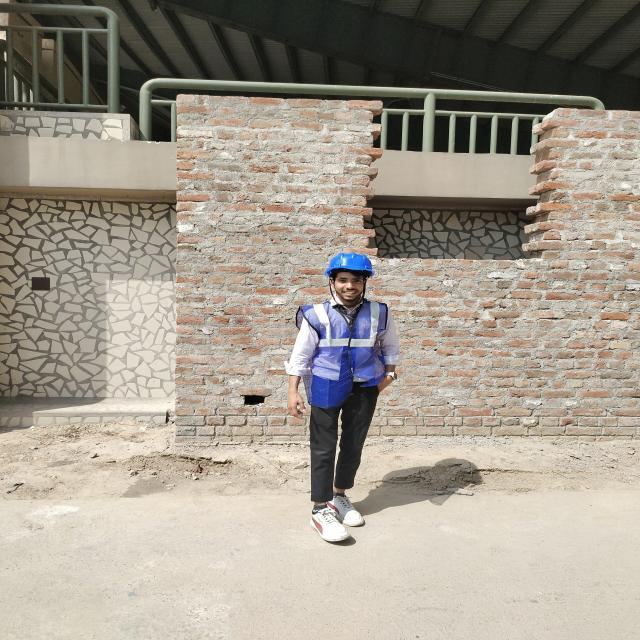safe: (293, 253, 391, 541)
